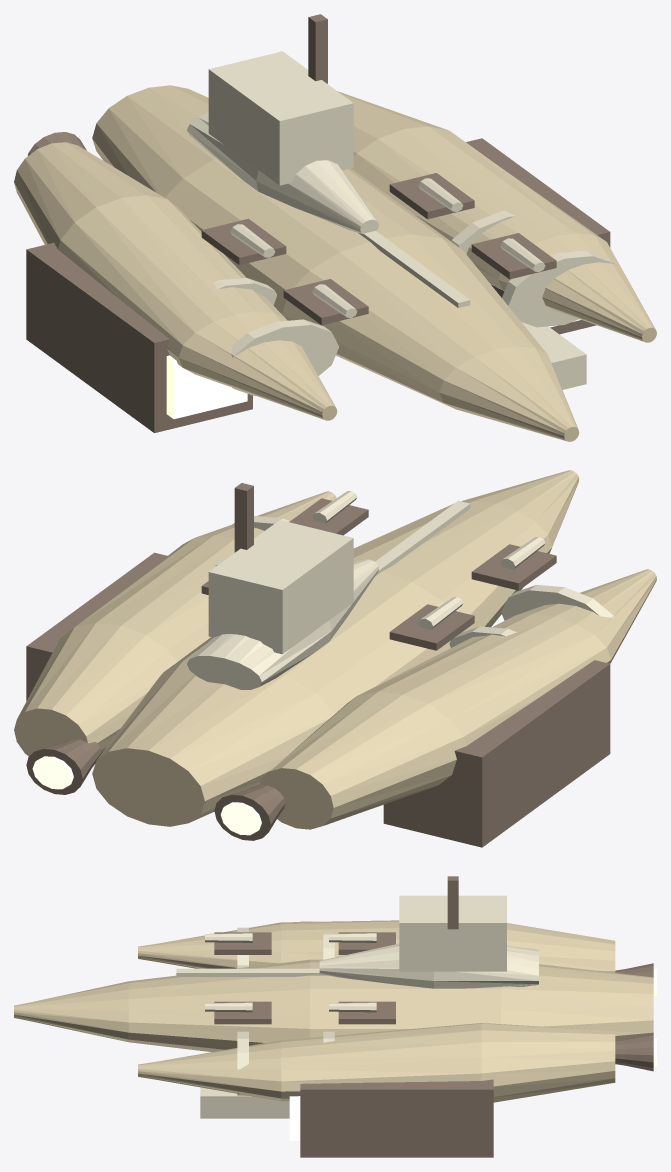
3 views of the same model, one above another, from view 1: azimuth 30°, elevation 25°; view 2: azimuth 150°, elevation 25°; view 3: azimuth 270°, elevation 25° (orthographic). The views are drawn at different scales.
Size of the model in its own units: 14.81 by 8.58 by 23.93.
